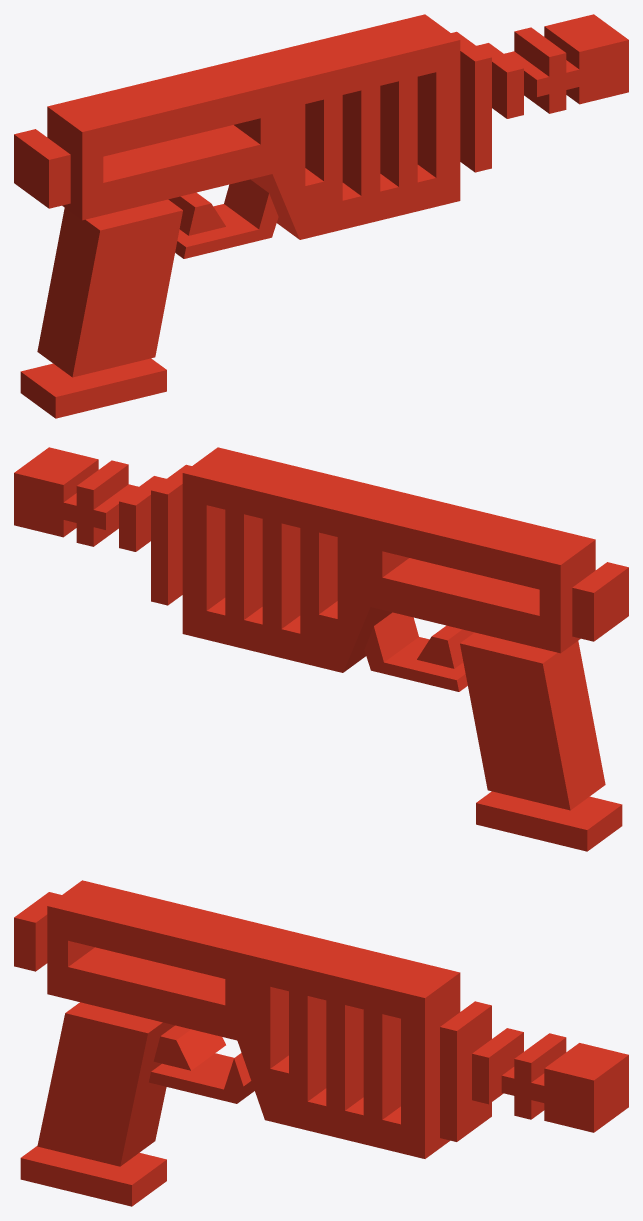
File: Icon_Blaster.fbx
3 renders of one model, top to bottom at view 1: azimuth 30°, elevation 25°; view 2: azimuth 150°, elevation 25°; view 3: azimuth 330°, elevation 25°, orthographic.
Parts seen in each view (by area): view 1: Icon_Blaster; view 2: Icon_Blaster; view 3: Icon_Blaster.
Boxes of the visible parts, x1,y1,x2,y2 form: Icon_Blaster: (14,14,628,418); Icon_Blaster: (14,447,628,851); Icon_Blaster: (14,880,628,1206).
Bounding box in the file's own units: 115 × 53.14 × 12.06.
